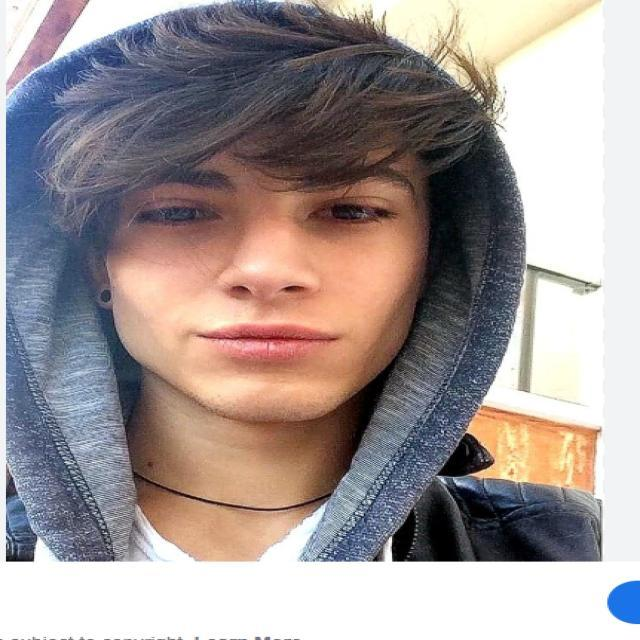face_no_mask: (94, 141, 453, 428)
